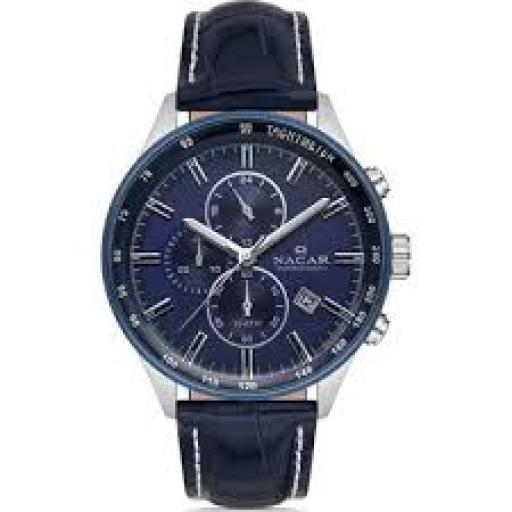KolSaati: (52, 2, 430, 512), (94, 0, 96, 2)
